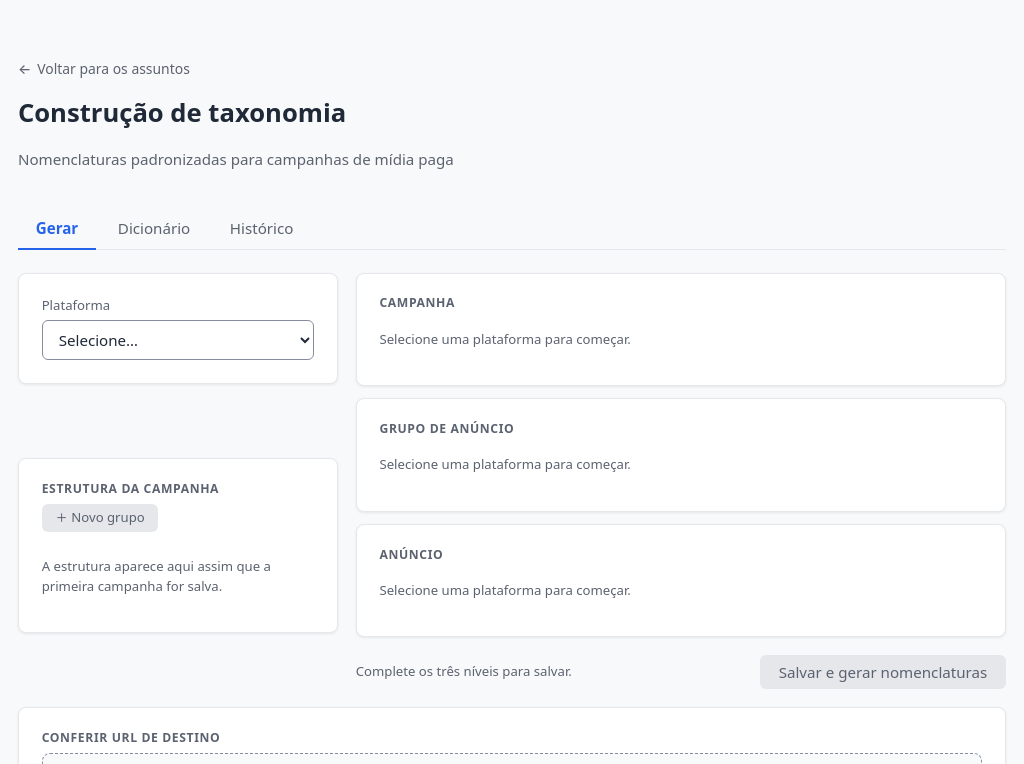
Scenario: navegação por abas › mantém o gerador montado ao visitar outra aba
Expected: the tab "Gerar" is shown, [18, 209, 96, 250]
Click the tab "Dicionário" at (154, 229), box [100, 209, 208, 250]
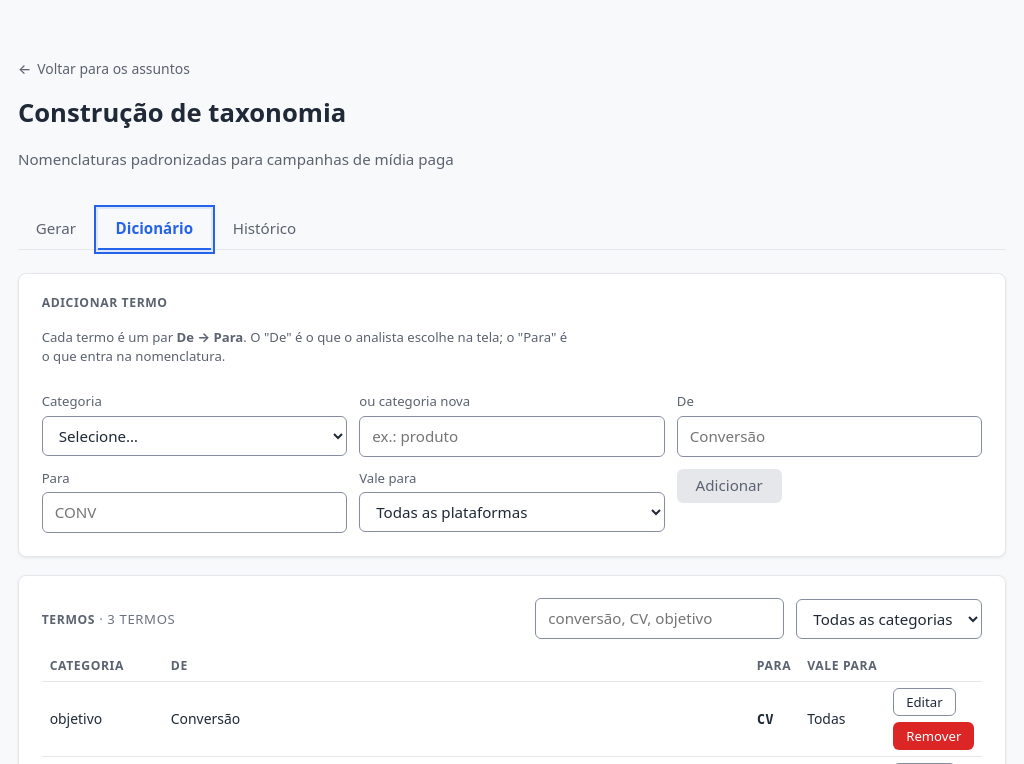
Click the tab "Gerar" at (56, 229), box [18, 209, 94, 250]
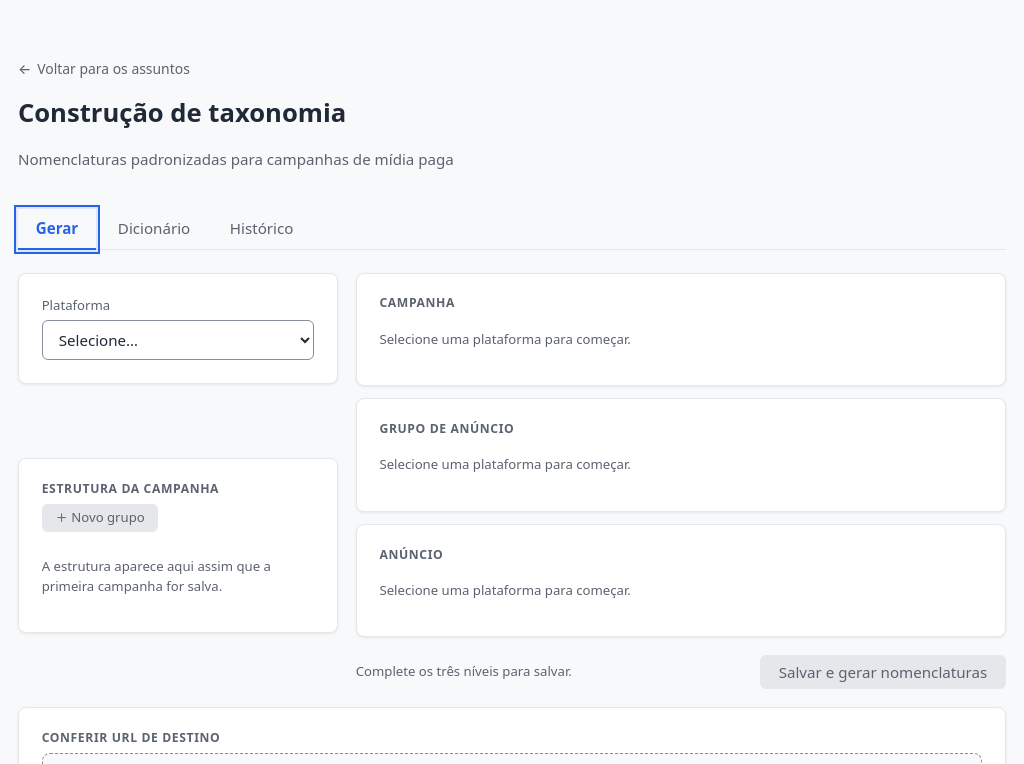
Result: the tab "Gerar" is selected at [18, 209, 96, 250]
